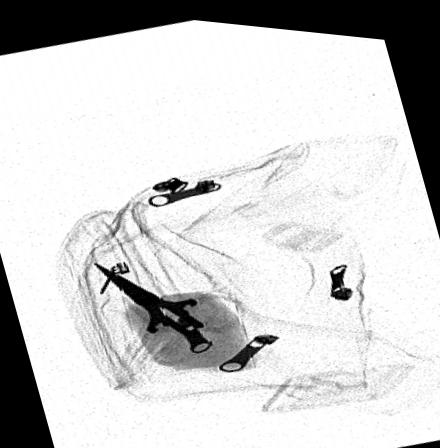Scissors: (84, 255, 251, 364)
